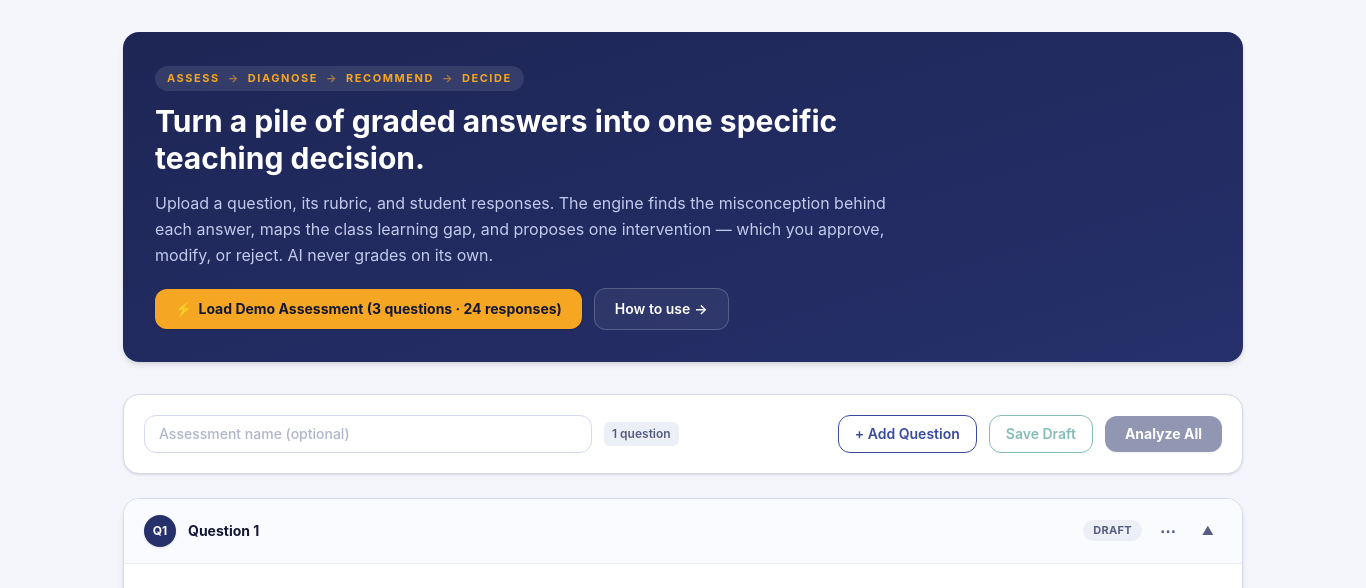
Scenario: AssessmentWorkspace — question actions › deletes a question when there are multiple
Add a second question
Click the button "+ Add Question". click: (907, 434)
box: top-left (838, 414), bottom-right (977, 452)
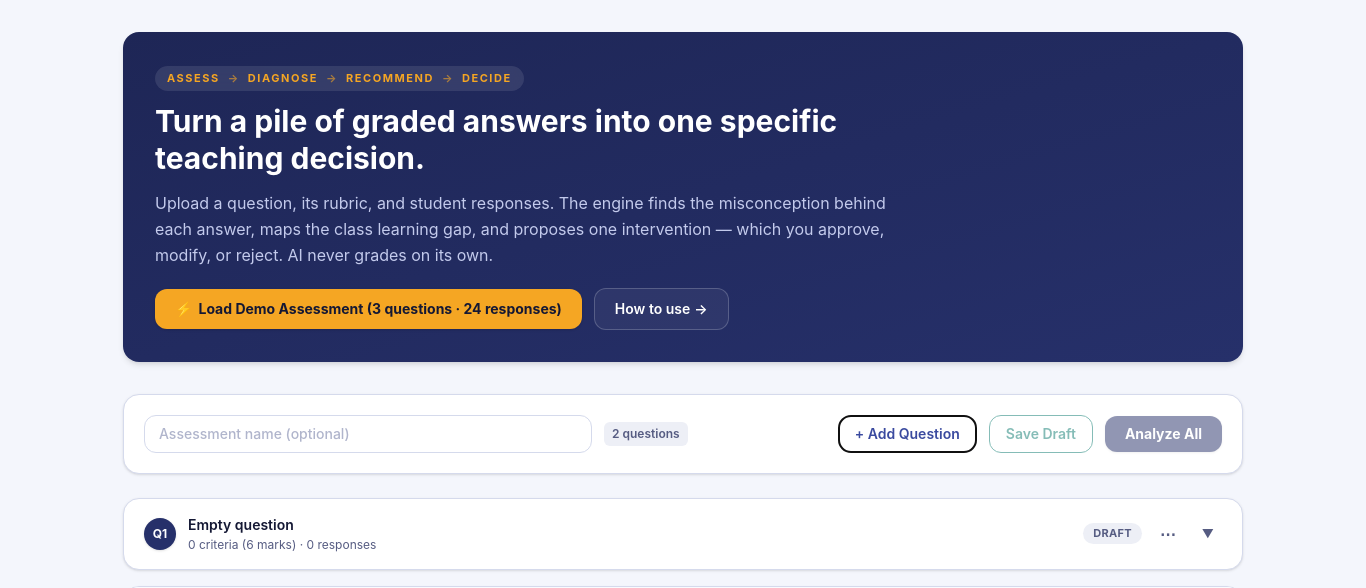
Result: the text "2 questions" is shown at top-left (604, 422), bottom-right (688, 446)
Open action menu for Q1 (first ⋯ button)
Click the 1st button "⋯". click: (1168, 534)
box: top-left (1154, 516), bottom-right (1182, 552)
(page scrolled)
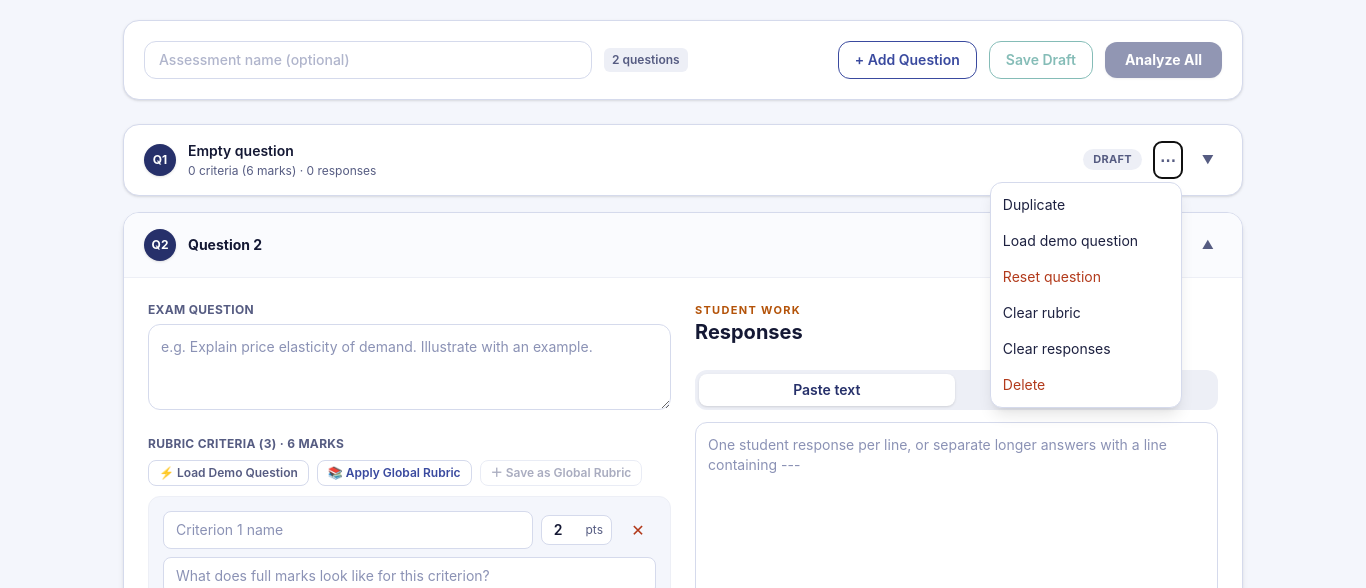
Click Delete
Click the button "Delete". click: (1086, 384)
box: top-left (991, 366), bottom-right (1181, 402)
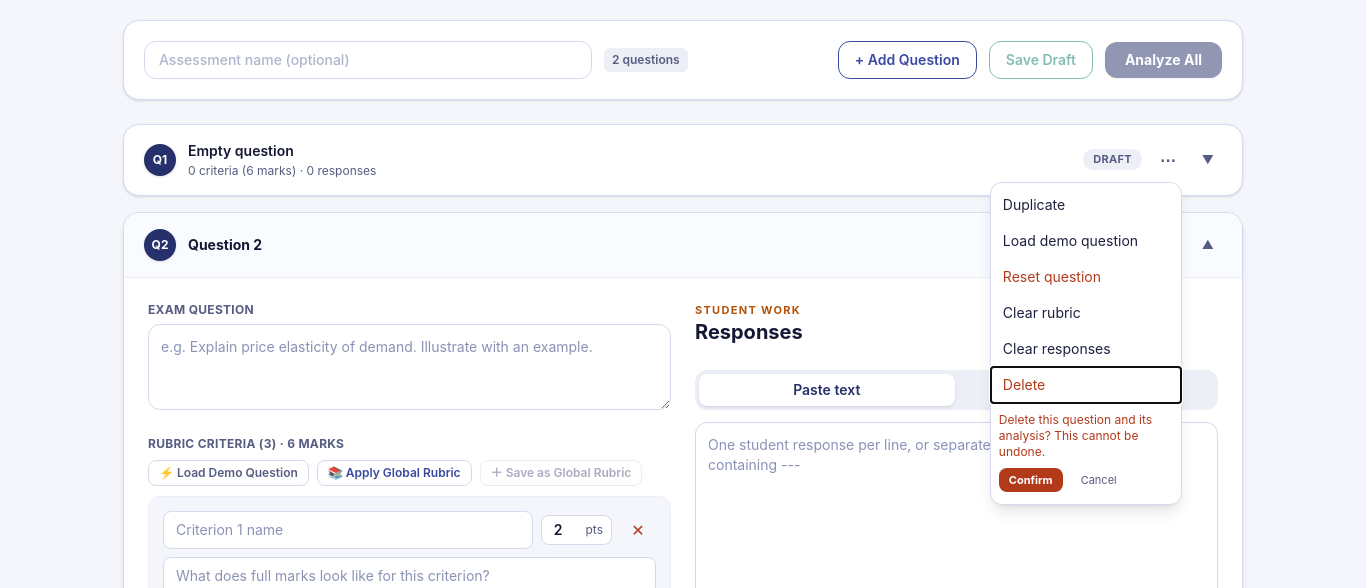
Confirm deletion
Click the button "Confirm". click: (1031, 480)
box: top-left (999, 468), bottom-right (1063, 492)
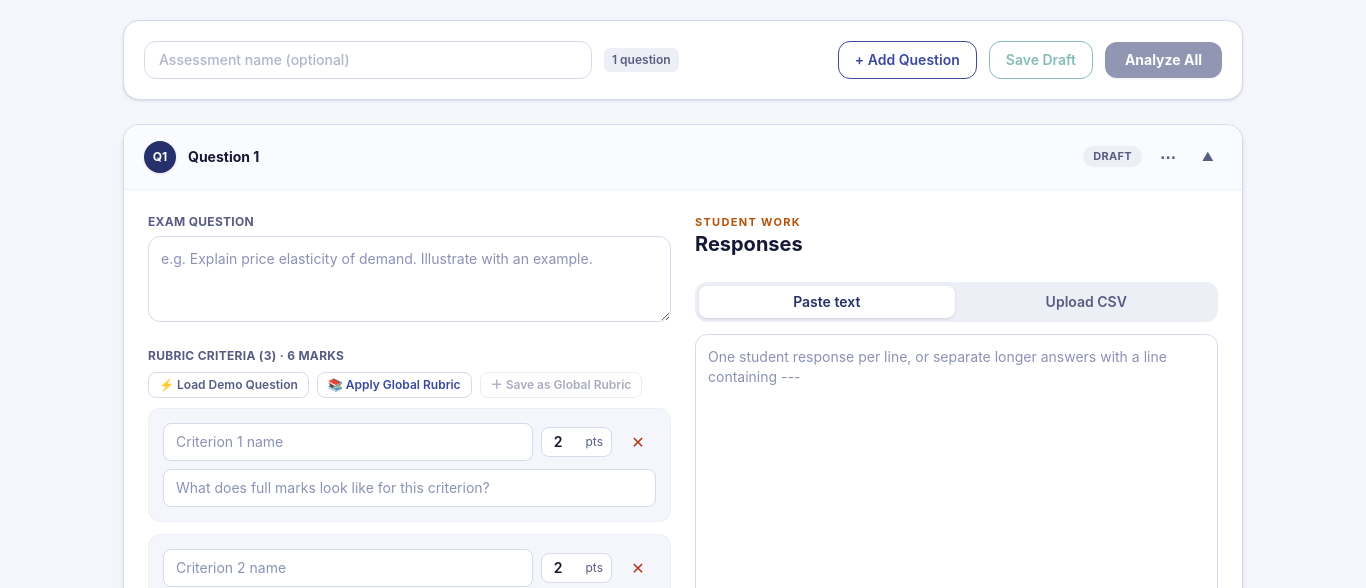
Result: the text "1 question" is shown at top-left (604, 48), bottom-right (679, 72)
